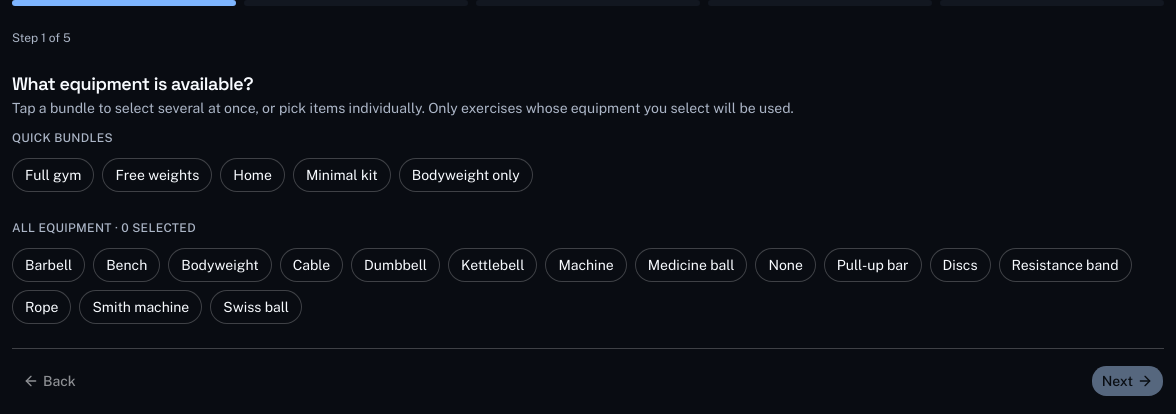
Test: WorkoutGeneratorWizard — the steps › will not advance past step 2 with no muscles picked
The image size is (1176, 414).
Click the button "Barbell": click(49, 265) 12,248 -> 85,282
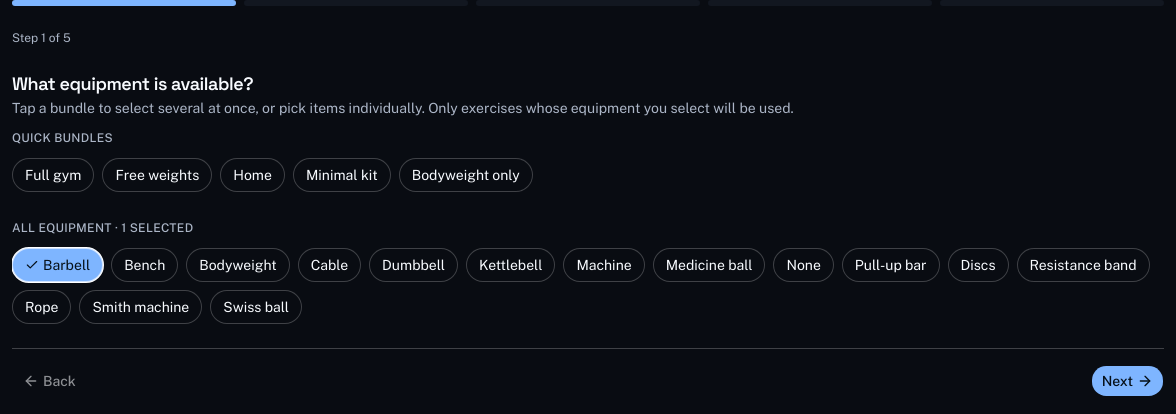
Click the button "Next": click(1127, 381) 1091,365 -> 1164,397
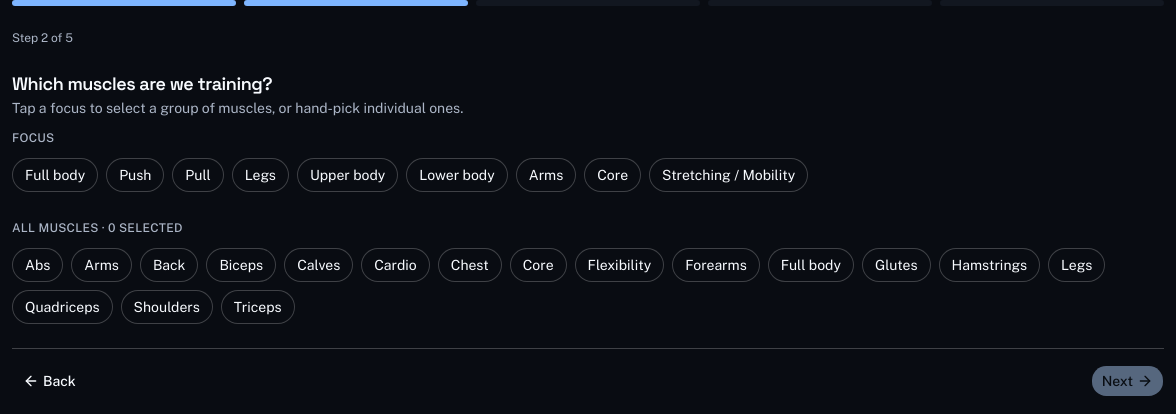
Result: the button "Next" is disabled at 1091,365 -> 1164,397
